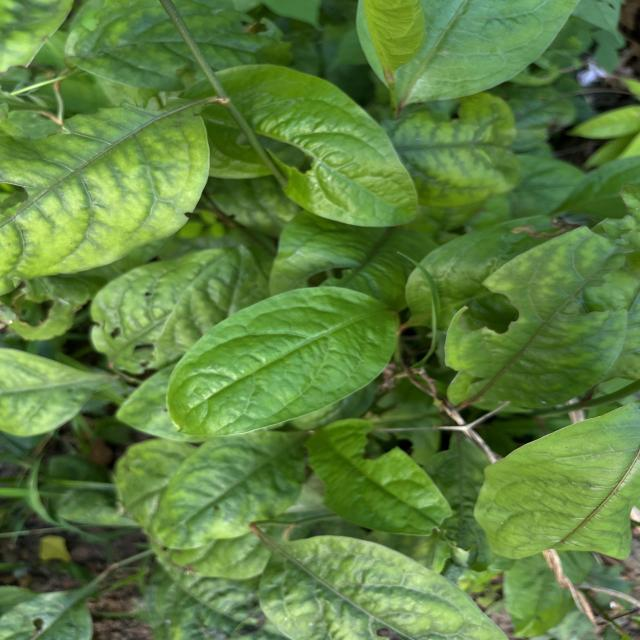Plumbago indica: (195, 58, 438, 230), (164, 280, 402, 448), (146, 432, 312, 556), (297, 416, 461, 536)
